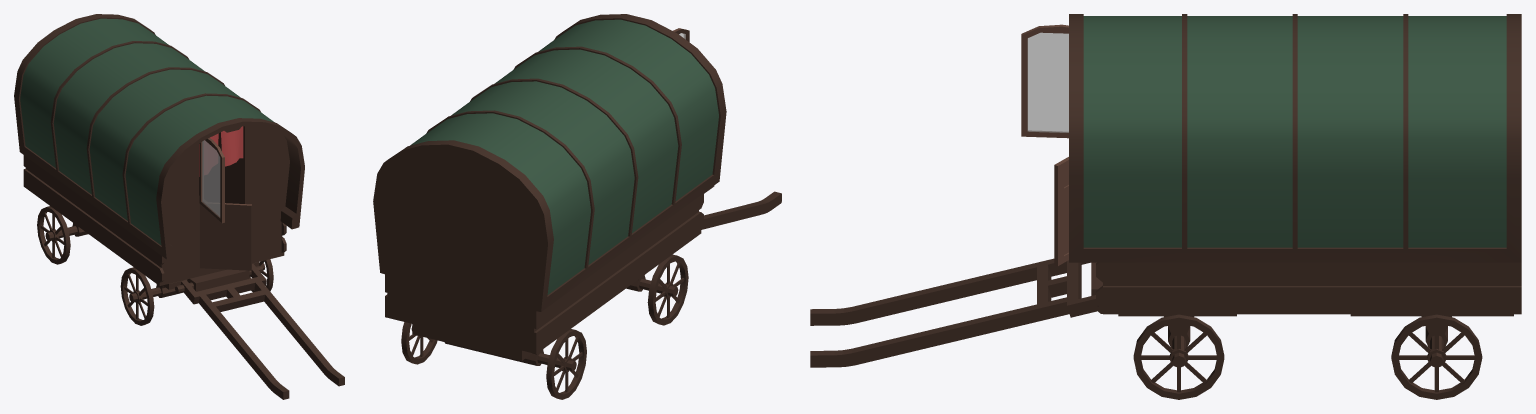
Rendered from trailer.glb.
3 views of the same model, side by side, from view 1: azimuth 30°, elevation 25°; view 2: azimuth 150°, elevation 25°; view 3: azimuth 270°, elevation 25° (orthographic). The views are drawn at different scales.
Parts seen in each view (by area): view 1: Trailer; view 2: Trailer; view 3: Trailer.
Boxes of the visible parts, x1,y1,x2,y2 form: Trailer: (14, 14, 344, 399); Trailer: (373, 14, 781, 399); Trailer: (810, 14, 1521, 399).
Size of the model in its own units: 3.19 by 4.46 by 8.85.
19 materials, 18 textured.
